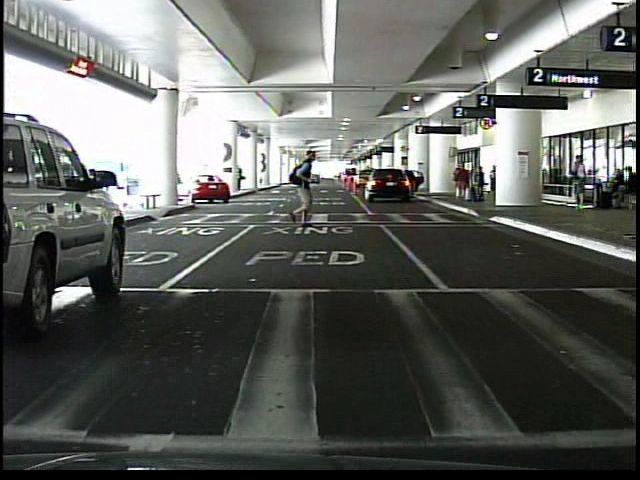person: (278, 147, 321, 227), (451, 159, 472, 201), (572, 159, 587, 209), (473, 166, 486, 201), (487, 165, 501, 194)
